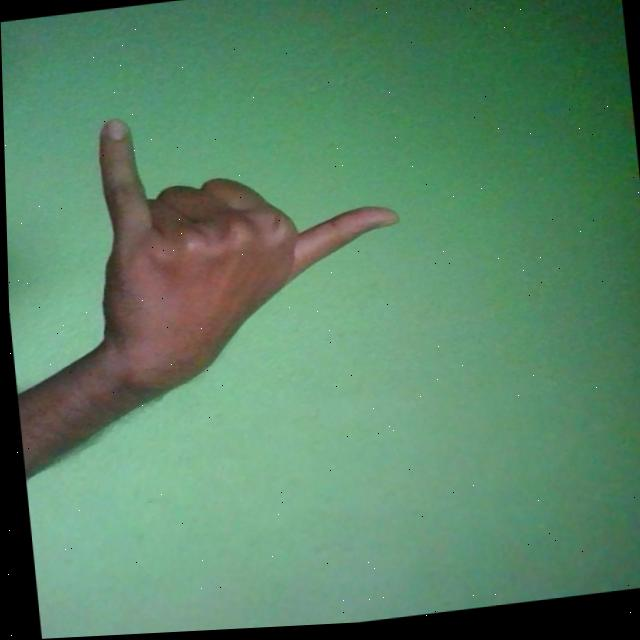Call Me: (78, 88, 412, 411)
